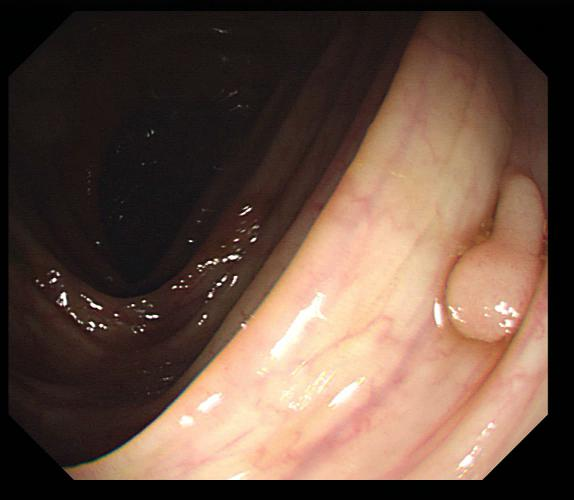polyp: (447, 174, 544, 345)
